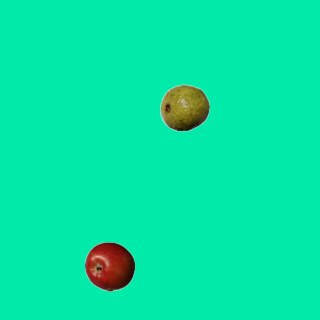Apple Braeburn: (84, 241, 134, 291)
Guava: (159, 82, 209, 132)
